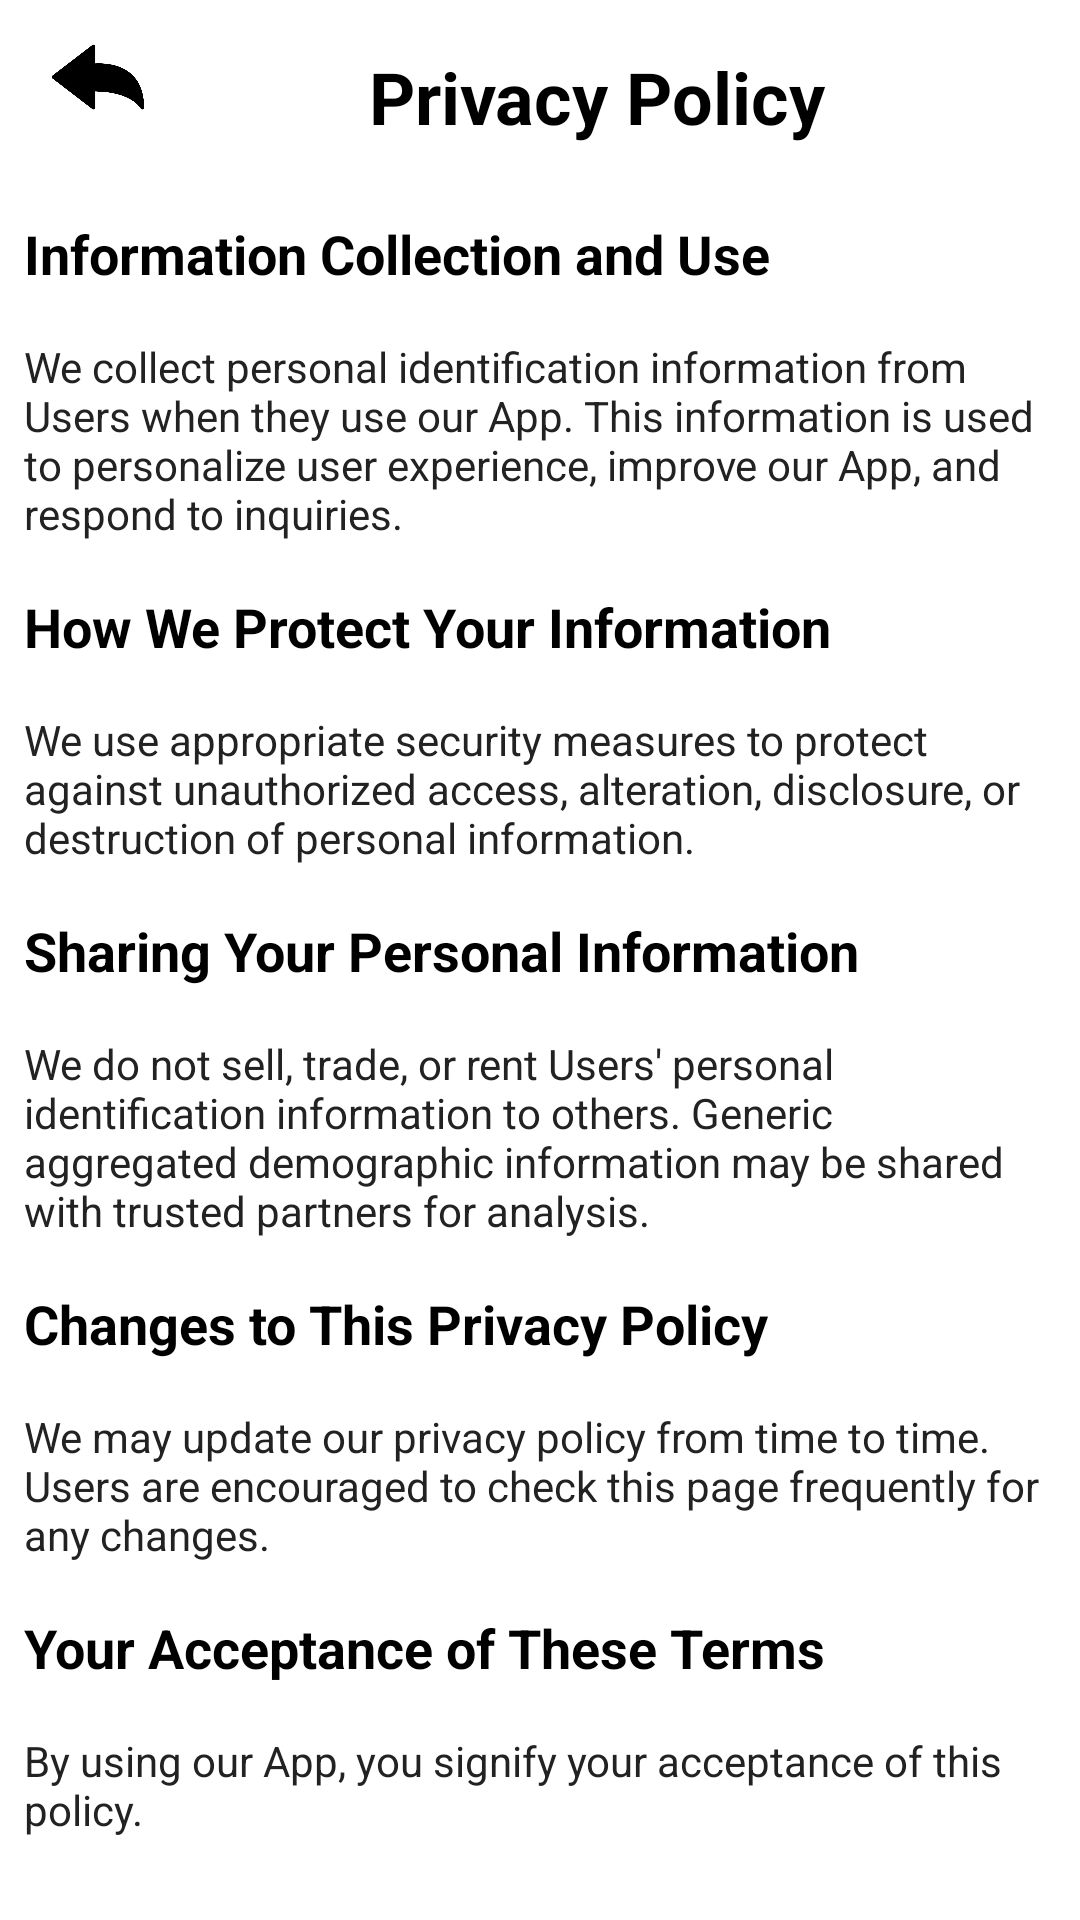

Where to tap for icons on this 1080px×1920px app screen, as point (x, y):
back: point (98, 77)
